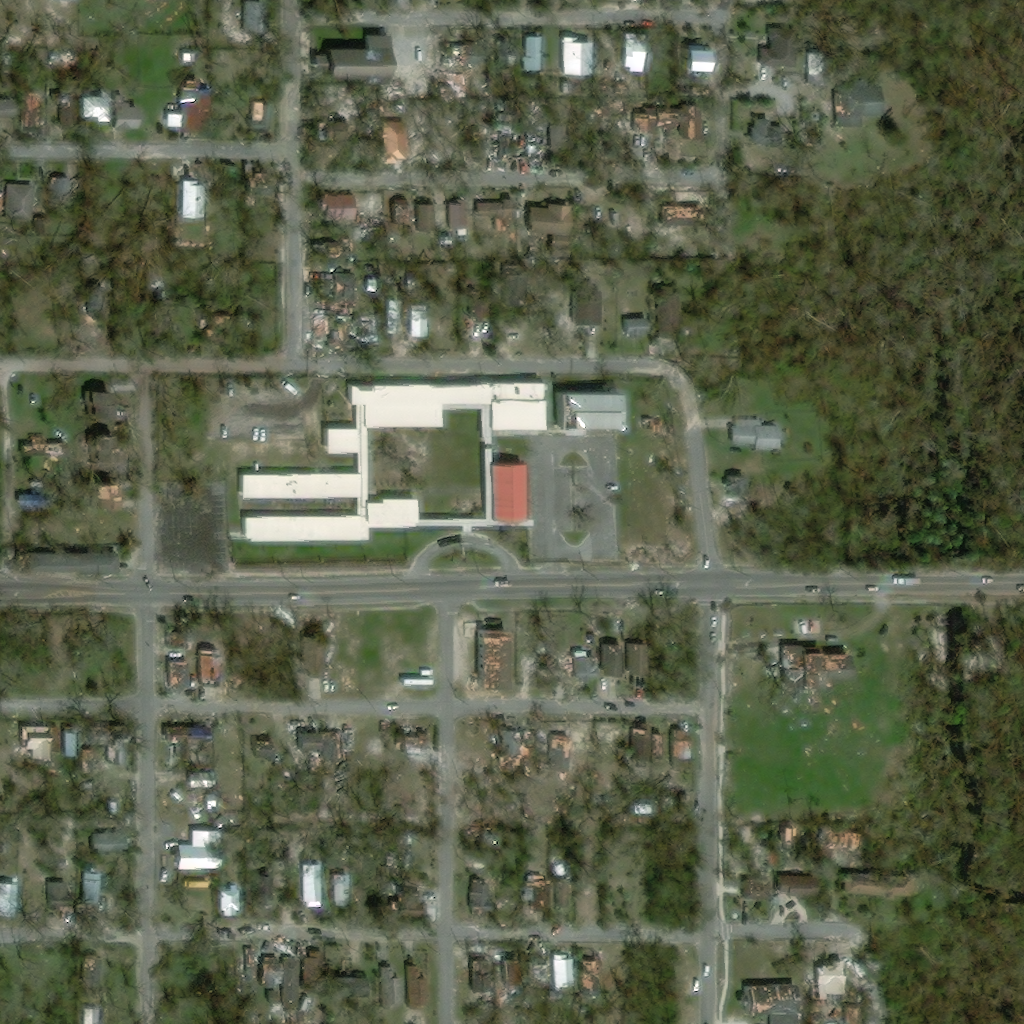destroyed: (472, 120, 511, 168), (164, 631, 187, 651), (832, 827, 852, 849), (353, 230, 369, 244), (616, 615, 624, 619)
major_damage: (165, 77, 212, 132), (440, 49, 477, 72), (391, 199, 413, 235), (194, 650, 215, 687), (249, 99, 273, 127), (322, 235, 350, 258), (164, 662, 184, 694), (21, 90, 37, 129), (327, 326, 347, 355), (313, 316, 328, 337)
minor_damage: (310, 33, 395, 77), (248, 944, 300, 1011), (780, 642, 846, 688), (552, 391, 620, 429), (831, 78, 878, 129), (739, 984, 797, 1023), (642, 101, 703, 137), (473, 628, 508, 690), (77, 485, 143, 513), (303, 855, 346, 897), (162, 723, 208, 755), (807, 960, 842, 1001), (178, 177, 208, 224), (848, 874, 910, 896), (328, 274, 359, 316), (731, 416, 775, 445), (378, 120, 406, 164), (759, 29, 790, 67), (569, 282, 597, 323), (561, 36, 591, 73), (477, 198, 515, 226), (565, 651, 595, 682), (465, 882, 490, 918), (580, 951, 601, 989), (547, 734, 569, 770), (744, 872, 772, 900), (400, 729, 427, 758), (522, 877, 547, 908), (103, 730, 124, 766), (549, 953, 571, 986), (218, 886, 240, 919), (393, 894, 424, 917), (20, 729, 45, 757), (657, 206, 687, 228), (666, 730, 688, 758), (409, 307, 427, 341), (602, 643, 620, 675), (93, 93, 109, 124), (497, 730, 514, 759), (0, 882, 16, 912), (468, 853, 487, 873), (470, 299, 484, 320), (626, 642, 635, 674), (589, 617, 598, 641), (244, 0, 265, 8), (90, 754, 100, 768), (297, 942, 306, 956), (300, 997, 309, 1010), (300, 730, 309, 734)
no_damage: (222, 381, 548, 543), (486, 463, 525, 520), (19, 551, 118, 573), (175, 829, 219, 870), (527, 204, 571, 232), (46, 868, 75, 909), (654, 287, 678, 336), (516, 36, 544, 71), (6, 185, 33, 221), (299, 637, 321, 681), (331, 191, 363, 220), (408, 967, 428, 1008), (490, 267, 516, 297), (622, 42, 645, 75), (679, 47, 709, 72), (382, 966, 400, 1005), (778, 875, 809, 897), (112, 101, 137, 128), (448, 199, 465, 235), (84, 864, 101, 897), (417, 197, 433, 232), (747, 117, 764, 147), (622, 316, 644, 330), (641, 417, 655, 430)
unclassified: (47, 0, 78, 5)
